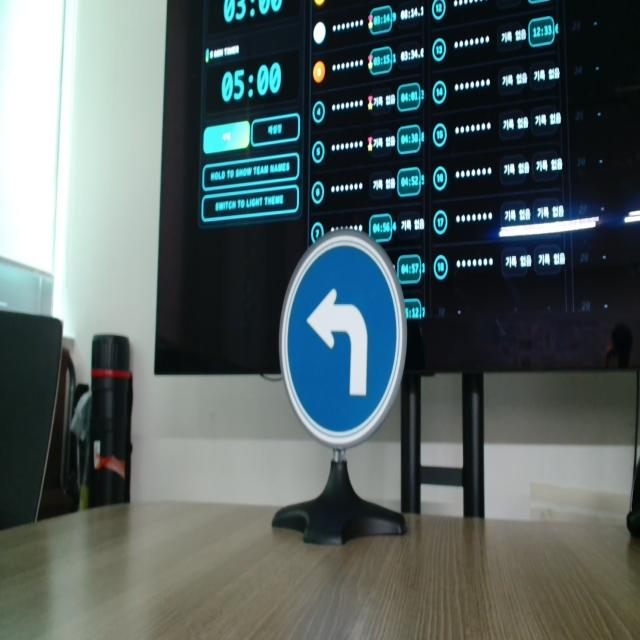left_direction: (276, 227, 408, 451)
